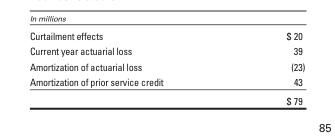table: (28, 29, 304, 106)
table column: (28, 29, 224, 106), (224, 29, 304, 106)
table row: (28, 73, 304, 90), (28, 90, 304, 106), (28, 43, 304, 58), (28, 58, 304, 73), (28, 29, 304, 43)
